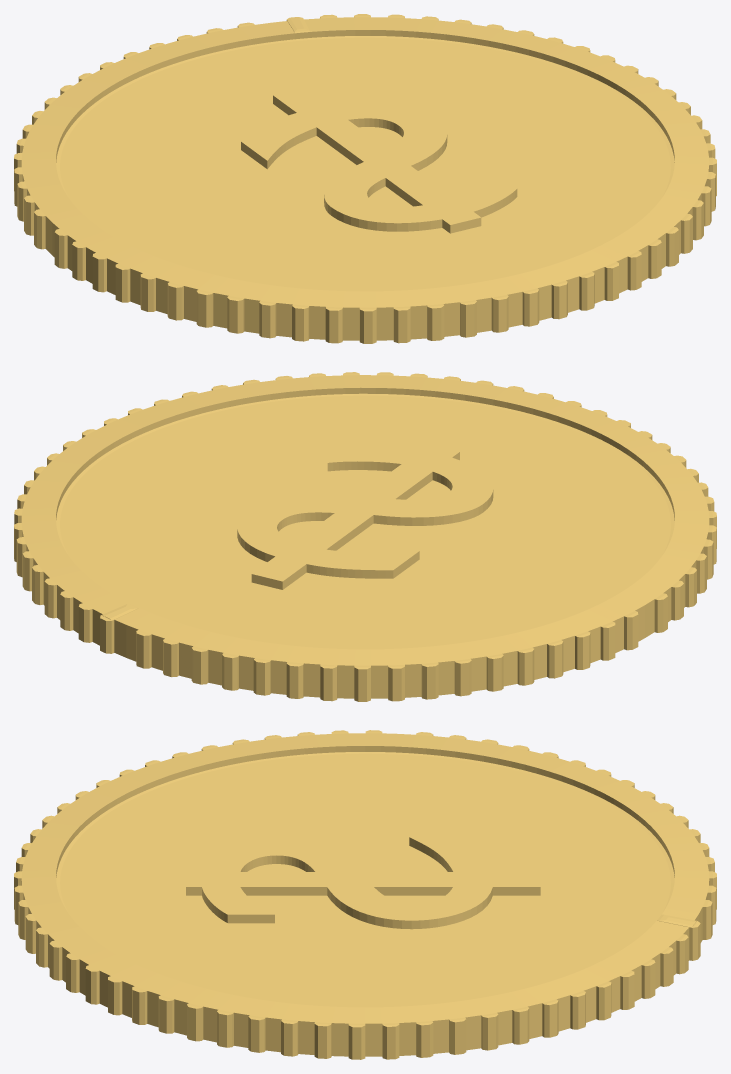
Rendered from coin.fbx.
3 renders of one model, top to bottom at view 1: azimuth 30°, elevation 25°; view 2: azimuth 150°, elevation 25°; view 3: azimuth 270°, elevation 25°, orthographic.
Visible parts, largest first — view 1: Text; view 2: Text; view 3: Text.
Boxes of the visible parts, x1,y1,x2,y2 form: Text: (14, 14, 716, 343); Text: (14, 372, 716, 701); Text: (14, 730, 716, 1059).
Bounding box in the file's own units: 1.6 × 0.0981 × 1.6.
